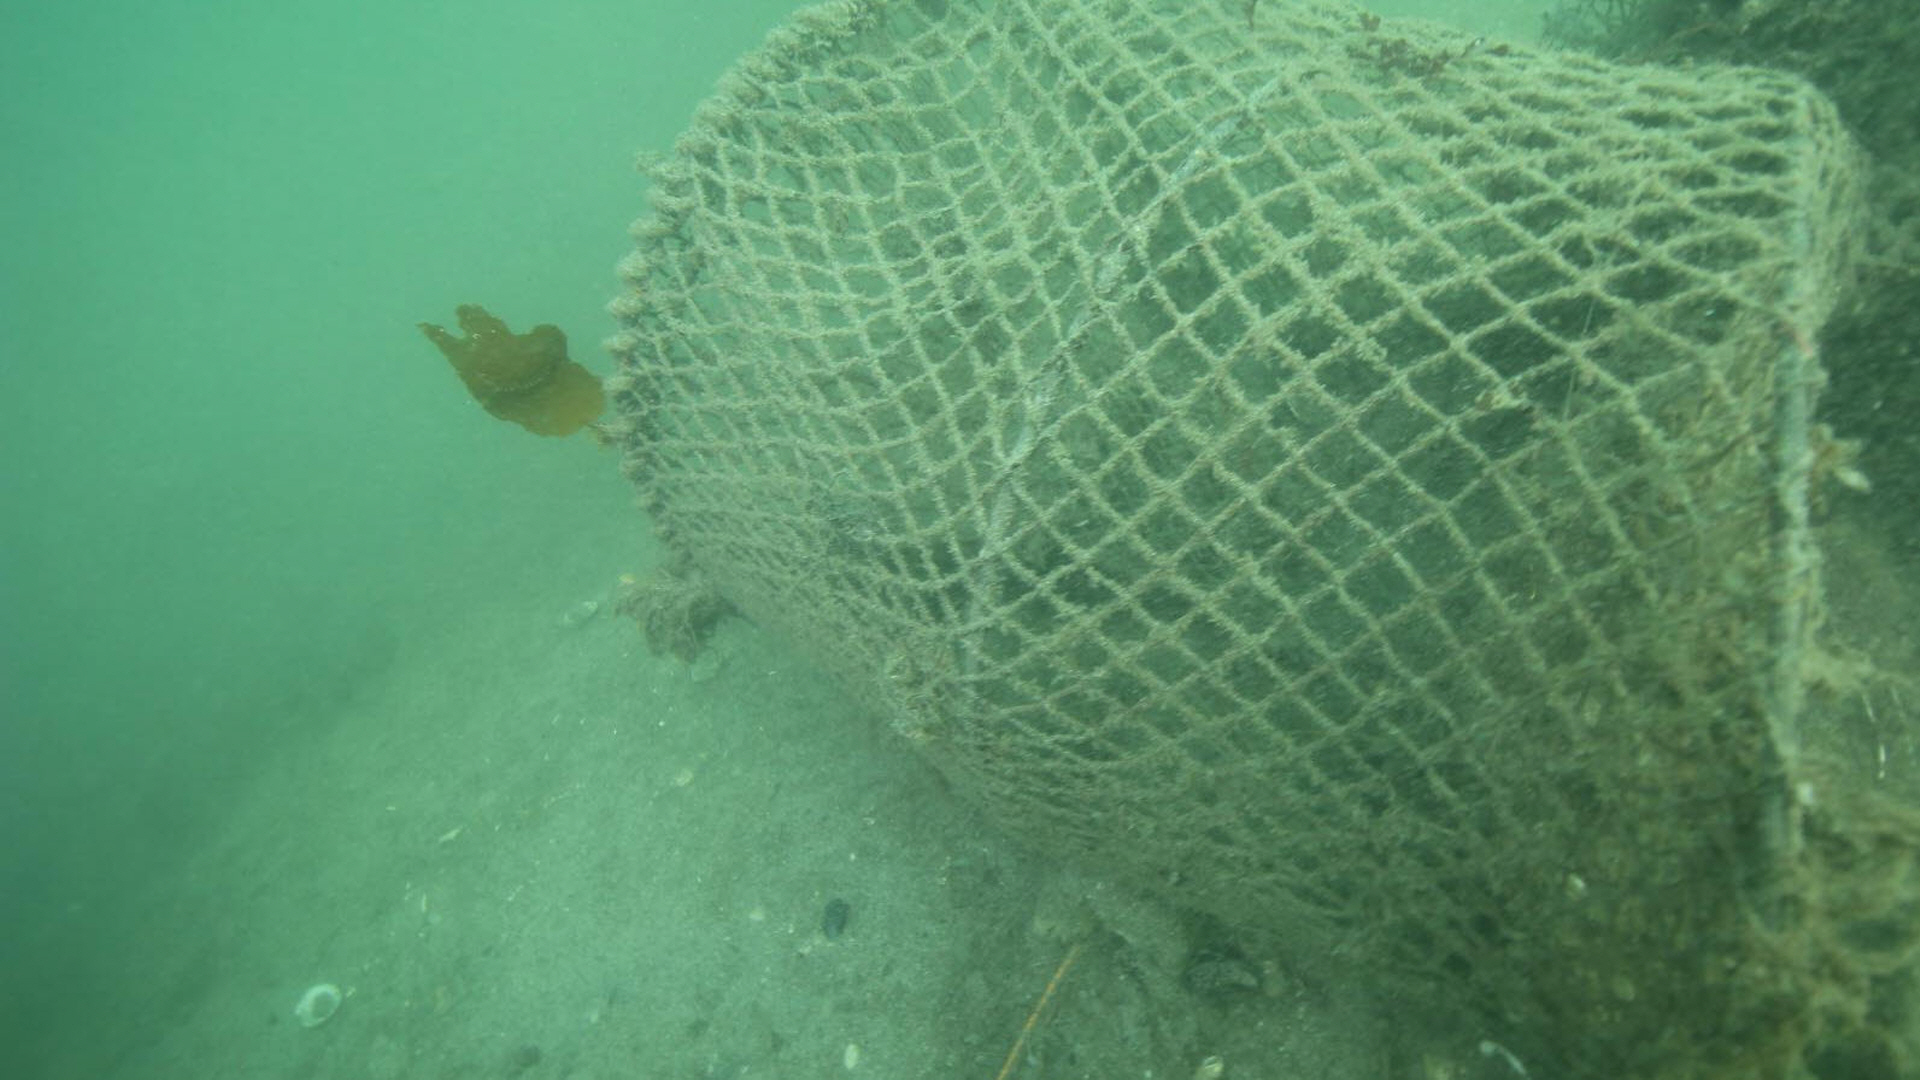spring fish trap: (608, 0, 1920, 1080)
